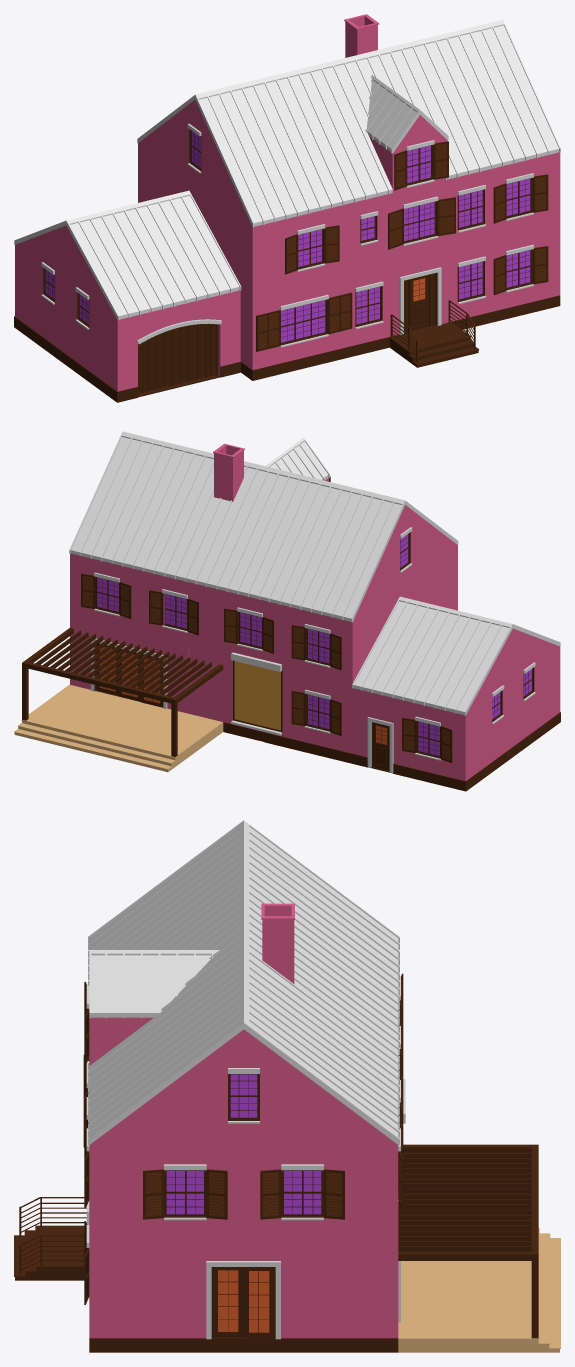
Rendered from houseForBackyard.fbx.
3 views of the same model, one above another, from view 1: azimuth 30°, elevation 25°; view 2: azimuth 150°, elevation 25°; view 3: azimuth 270°, elevation 25° (orthographic). The views are drawn at different scales.
Parts seen in each view (by area): view 1: MBH1OBJ_01, MBH1OBJ_05, MBH1OBJ_02, MBH1OBJ_06, MBH1OBJ_03, MBH1OBJ_04; view 2: MBH1OBJ_01, MBH1OBJ_05, MBH1OBJ_04, MBH1OBJ_02, MBH1OBJ_03, MBH1OBJ_06; view 3: MBH1OBJ_05, MBH1OBJ_01, MBH1OBJ_04, MBH1OBJ_02, MBH1OBJ_06, MBH1OBJ_03.
Boxes of the visible parts, box(x1,y1,x2,y2) form: MBH1OBJ_01: box(14, 19, 560, 320); MBH1OBJ_05: box(15, 14, 560, 391); MBH1OBJ_02: box(41, 123, 548, 351); MBH1OBJ_06: box(137, 267, 441, 393); MBH1OBJ_03: box(14, 295, 560, 402); MBH1OBJ_04: box(389, 300, 479, 367); MBH1OBJ_01: box(69, 431, 560, 715); MBH1OBJ_05: box(70, 443, 560, 781); MBH1OBJ_04: box(14, 628, 223, 772); MBH1OBJ_02: box(81, 476, 535, 762); MBH1OBJ_03: box(96, 690, 560, 791); MBH1OBJ_06: box(91, 638, 393, 772); MBH1OBJ_05: box(89, 903, 398, 1338); MBH1OBJ_01: box(88, 820, 399, 1144); MBH1OBJ_04: box(14, 1144, 560, 1352); MBH1OBJ_02: box(83, 973, 405, 1304); MBH1OBJ_06: box(86, 1216, 400, 1339); MBH1OBJ_03: box(89, 1337, 398, 1352).
Bounding box in the file's own units: 76464 × 44371 × 61605.
